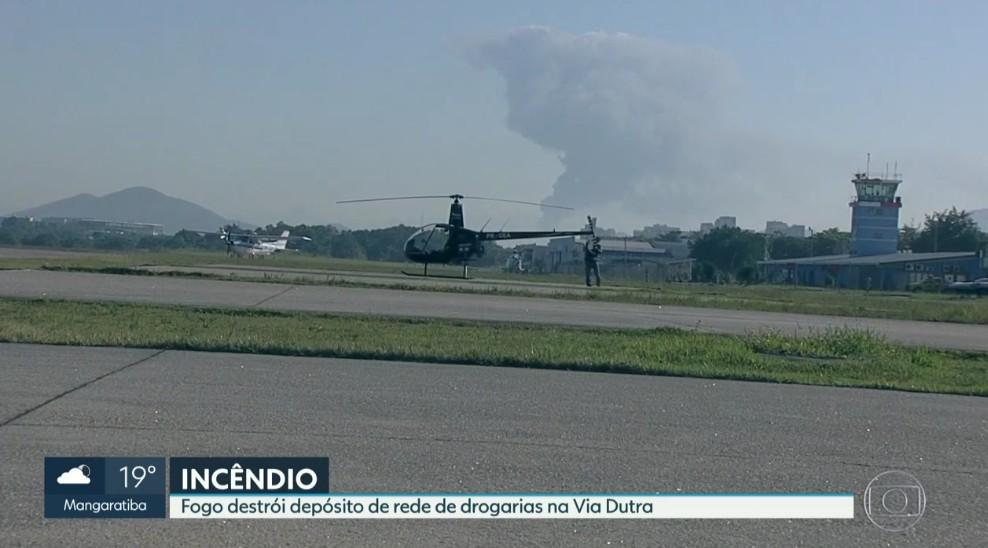smoke: (540, 59, 649, 160)
